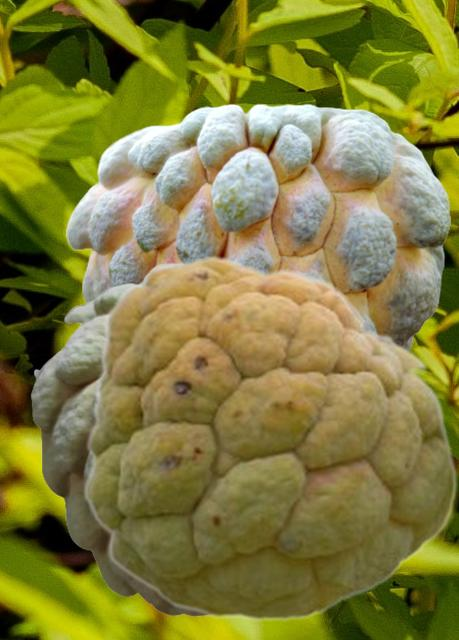atis: (82, 254, 456, 620), (66, 103, 449, 349), (30, 263, 201, 615)
